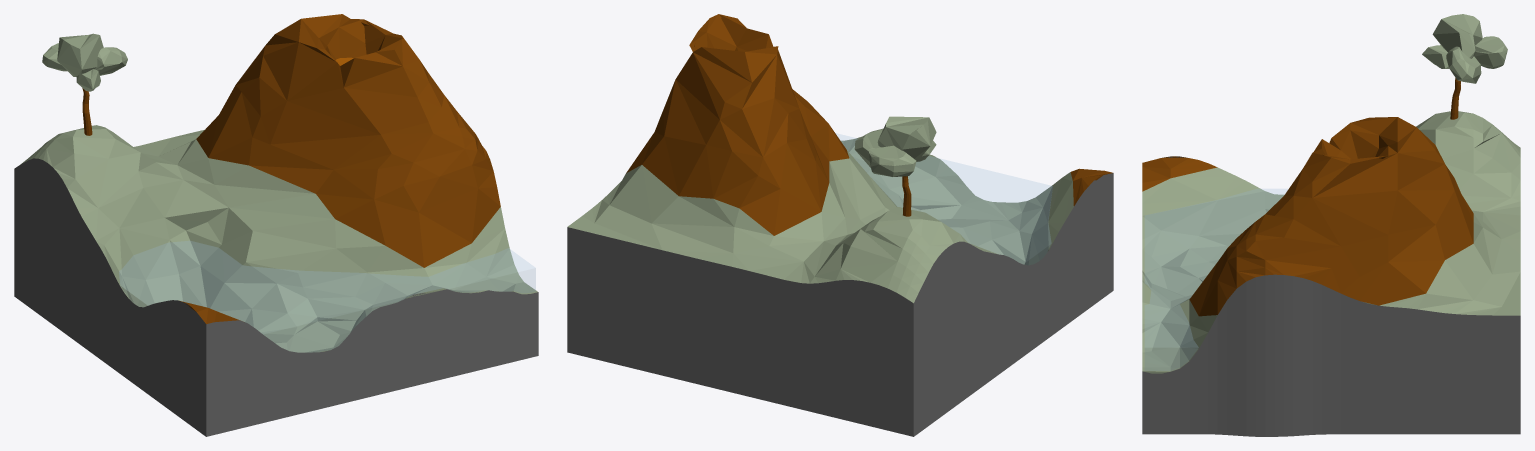
Rendered from Low_poly_landscape_with_volcano.glb.
3 views of the same model, side by side, from view 1: azimuth 30°, elevation 25°; view 2: azimuth 150°, elevation 25°; view 3: azimuth 270°, elevation 25° (orthographic). The views are drawn at different scales.
Parts seen in each view (by area): view 1: pCube26_Green1_0, pCube26_Gray_0, pCube26_phong6_0, pCube26_Blue2_0; view 2: pCube26_Gray_0, pCube26_Green1_0, pCube26_phong6_0, pCube26_Blue2_0; view 3: pCube26_Gray_0, pCube26_Green1_0, pCube26_phong6_0, pCube26_Blue2_0.
Part boxes in pixels (x1,y1,x2,y2): pCube26_Green1_0: [19, 33, 537, 352]; pCube26_Gray_0: [14, 158, 538, 436]; pCube26_phong6_0: [179, 14, 500, 323]; pCube26_Blue2_0: [119, 241, 535, 352]; pCube26_Gray_0: [567, 173, 1113, 436]; pCube26_Green1_0: [567, 116, 1073, 303]; pCube26_phong6_0: [626, 14, 1112, 235]; pCube26_Blue2_0: [836, 133, 1052, 264]; pCube26_Gray_0: [1142, 156, 1520, 436]; pCube26_Green1_0: [1142, 14, 1520, 373]; pCube26_phong6_0: [1142, 117, 1473, 316]; pCube26_Blue2_0: [1145, 189, 1287, 370].
Size of the model in its own units: 69.63 by 53.8 by 68.43.
